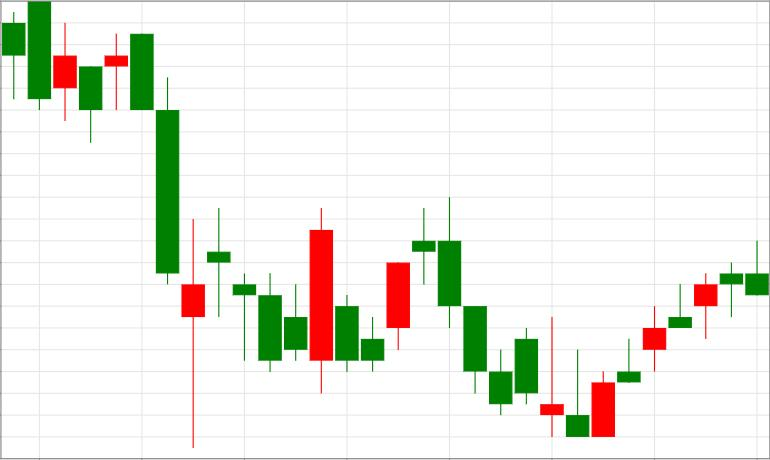bullish_engulfing_rise: (208, 208, 333, 394)
inverse_hammer_rise: (413, 197, 589, 437)
